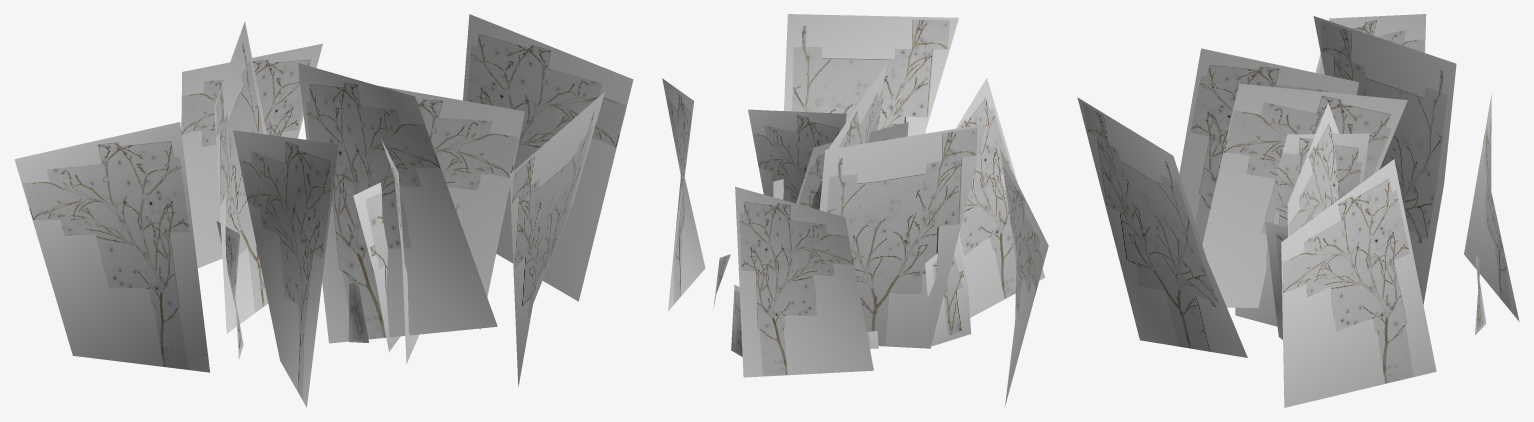
The model's file is Bush3_2.fbx.
The picture shows the model from 3 angles, left to right: view 1: azimuth 30°, elevation 25°; view 2: azimuth 150°, elevation 25°; view 3: azimuth 270°, elevation 25°; orthographic projection. The views are drawn at different scales.
Parts seen in each view (by area): view 1: LOD0; view 2: LOD0; view 3: LOD0.
Boxes of the visible parts, x1,y1,x2,y2 form: LOD0: [14, 14, 633, 407]; LOD0: [662, 14, 1048, 406]; LOD0: [1077, 14, 1519, 407].
Size of what is drawn, in the model's own units: 394 by 194 by 313.
